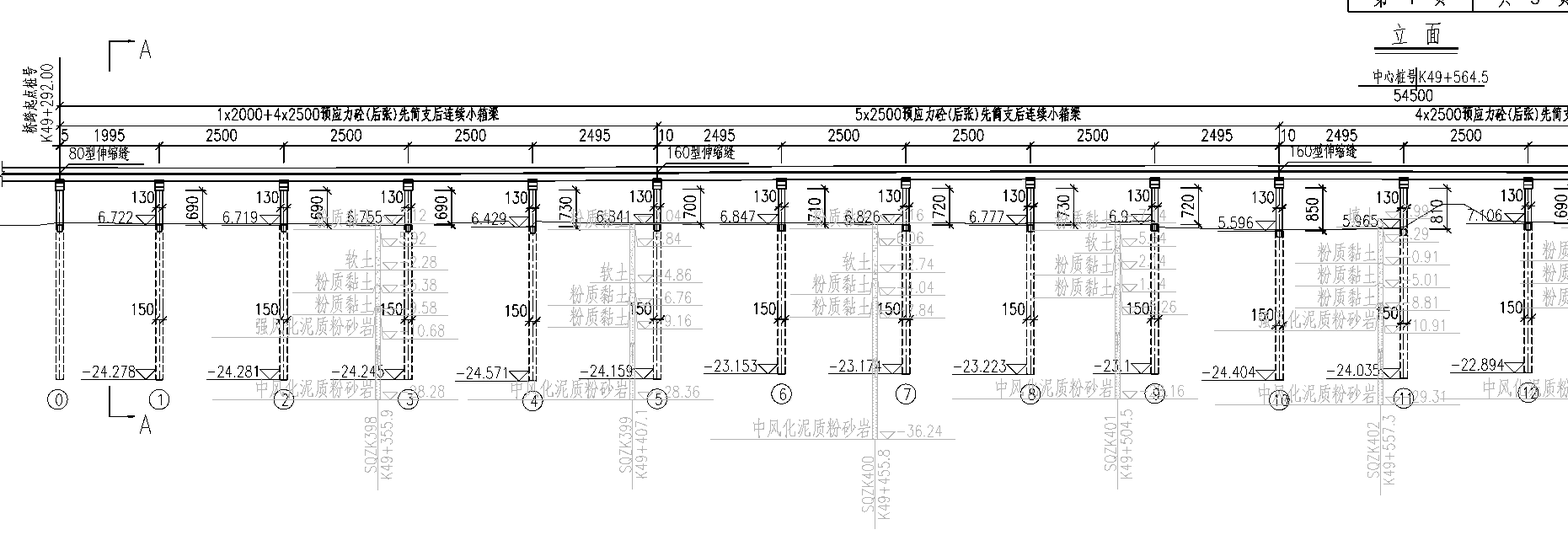B: (657, 93, 1285, 139), (56, 94, 666, 139)
C: (330, 173, 429, 414), (703, 171, 802, 409), (206, 170, 302, 415), (581, 172, 676, 415), (828, 172, 925, 409), (1327, 170, 1421, 414), (458, 171, 551, 416), (1206, 170, 1298, 415), (955, 171, 1048, 409), (86, 173, 177, 415), (1455, 171, 1546, 404), (1094, 171, 1175, 406)
